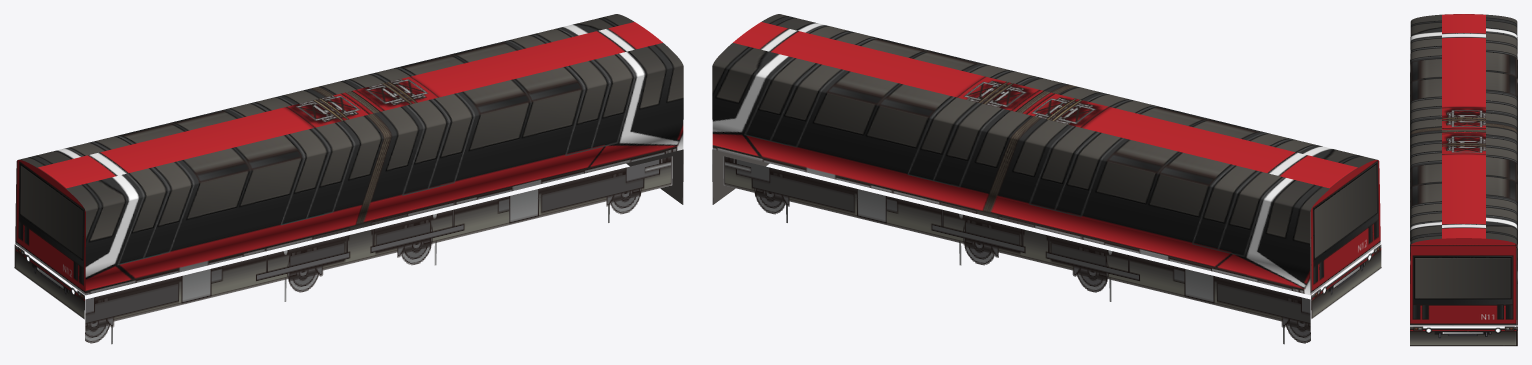
File: car2.glb
The picture shows the model from 3 angles, left to right: view 1: azimuth 30°, elevation 25°; view 2: azimuth 150°, elevation 25°; view 3: azimuth 270°, elevation 25°; orthographic projection. The views are drawn at different scales.
Parts seen in each view (by area): view 1: nankai-cable-car2; view 2: nankai-cable-car2; view 3: nankai-cable-car2.
Boxes of the visible parts, x1=… form: nankai-cable-car2: x1=14, y1=14, x2=683, y2=344; nankai-cable-car2: x1=712, y1=14, x2=1381, y2=344; nankai-cable-car2: x1=1410, y1=14, x2=1517, y2=346.
Bounding box in the file's own units: 14.05 × 3.3 × 2.85.
Materials: 8 (7 with a texture image).
